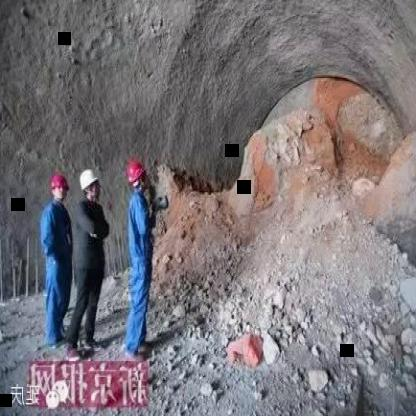helmet: (126, 152, 150, 196), (78, 164, 102, 200), (48, 172, 68, 202)
